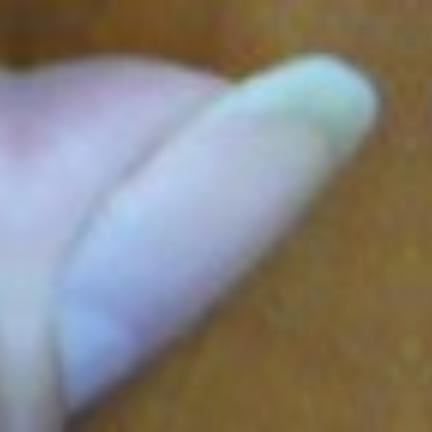Nail: (55, 51, 380, 419)
